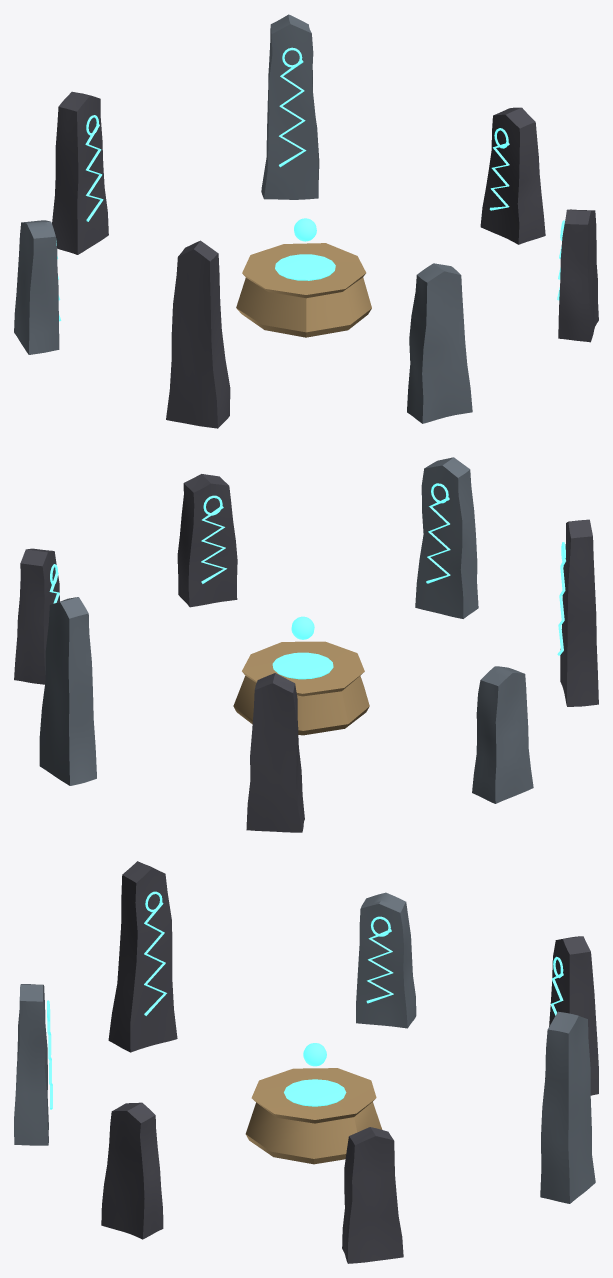
File: deco_standing_stone_circle.fbx
The picture shows the model from 3 angles, top to bottom: view 1: azimuth 30°, elevation 25°; view 2: azimuth 150°, elevation 25°; view 3: azimuth 270°, elevation 25°; orthographic projection.
Visible parts, largest first — view 1: StandingStone_Circle_Stone5, StandingStone_Circle_Altar, StandingStone_Circle_Stone6, StandingStone_Circle_Stone2, StandingStone_Circle_Stone3, StandingStone_Circle_Stone1, StandingStone_Circle_Stone4, StandingStone_Circle_Stone7, StandingStone_Circle_AltarGlow, StandingStone_Circle_Glow2; view 2: StandingStone_Circle_Stone2, StandingStone_Circle_Stone6, StandingStone_Circle_Stone3, StandingStone_Circle_Altar, StandingStone_Circle_Stone4, StandingStone_Circle_Stone7, StandingStone_Circle_Stone5, StandingStone_Circle_Stone1, StandingStone_Circle_AltarGlow, StandingStone_Circle_Glow6, StandingStone_Circle_Glow7; view 3: StandingStone_Circle_Stone5, StandingStone_Circle_Stone2, StandingStone_Circle_Altar, StandingStone_Circle_Stone1, StandingStone_Circle_Stone7, StandingStone_Circle_Stone4, StandingStone_Circle_Stone6, StandingStone_Circle_Stone3, StandingStone_Circle_AltarGlow, StandingStone_Circle_Glow5, StandingStone_Circle_Glow4.
Part boxes in pixels (x1,y1,x2,y2): StandingStone_Circle_Stone5: (166, 240, 230, 428); StandingStone_Circle_Altar: (236, 243, 371, 337); StandingStone_Circle_Stone6: (407, 263, 472, 423); StandingStone_Circle_Stone2: (261, 14, 319, 199); StandingStone_Circle_Stone3: (52, 91, 108, 254); StandingStone_Circle_Stone1: (480, 107, 545, 244); StandingStone_Circle_Stone4: (14, 220, 59, 354); StandingStone_Circle_Stone7: (558, 209, 598, 342); StandingStone_Circle_AltarGlow: (275, 218, 335, 280); StandingStone_Circle_Glow2: (279, 47, 306, 167); StandingStone_Circle_Stone2: (39, 597, 96, 785); StandingStone_Circle_Stone6: (415, 457, 478, 618); StandingStone_Circle_Stone3: (246, 673, 304, 832); StandingStone_Circle_Altar: (233, 641, 369, 735); StandingStone_Circle_Stone4: (472, 666, 533, 803); StandingStone_Circle_Stone7: (177, 474, 237, 607); StandingStone_Circle_Stone5: (560, 519, 598, 706); StandingStone_Circle_Stone1: (14, 548, 59, 684); StandingStone_Circle_AltarGlow: (272, 616, 333, 679); StandingStone_Circle_Glow6: (426, 483, 450, 583); StandingStone_Circle_Glow7: (201, 495, 226, 583); StandingStone_Circle_Stone5: (108, 861, 177, 1052); StandingStone_Circle_Stone2: (540, 1011, 595, 1203); StandingStone_Circle_Altar: (245, 1068, 382, 1164); StandingStone_Circle_Stone1: (342, 1127, 403, 1263); StandingStone_Circle_Stone7: (101, 1102, 163, 1239); StandingStone_Circle_Stone4: (356, 892, 416, 1028); StandingStone_Circle_Stone6: (14, 984, 48, 1145); StandingStone_Circle_Stone3: (545, 936, 598, 1095); StandingStone_Circle_AltarGlow: (284, 1043, 346, 1106); StandingStone_Circle_Glow5: (144, 891, 166, 1015); StandingStone_Circle_Glow4: (366, 916, 393, 1003).
Size of the model in its own units: 805 by 262 by 785.
